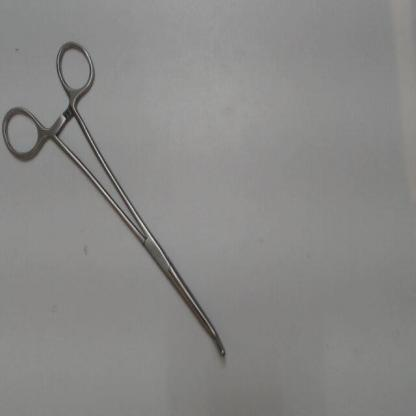Lahey Forceps: (2, 32, 241, 368)
